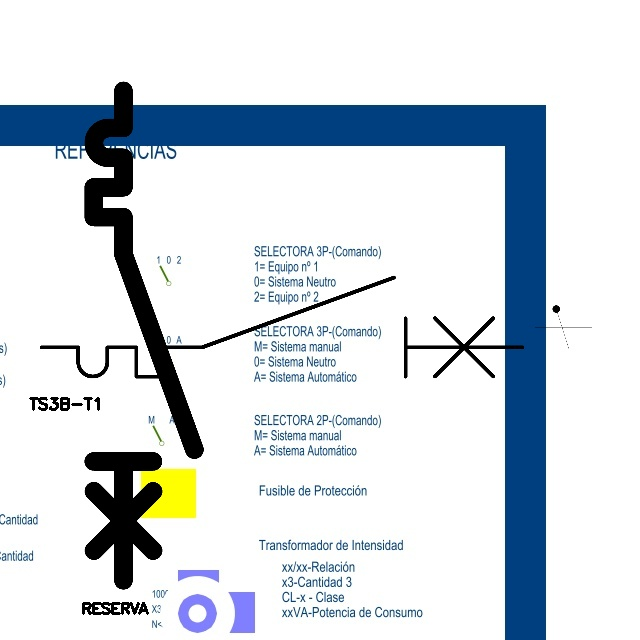interruptor_termomagnetico: (81, 78, 207, 593), (29, 265, 535, 389)
